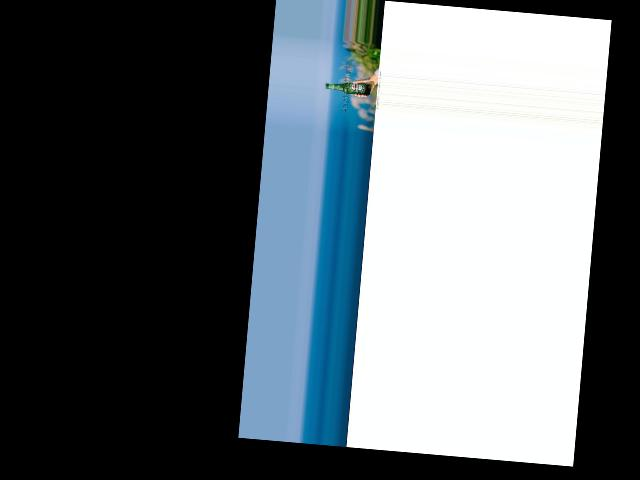beer: (325, 80, 370, 95)
